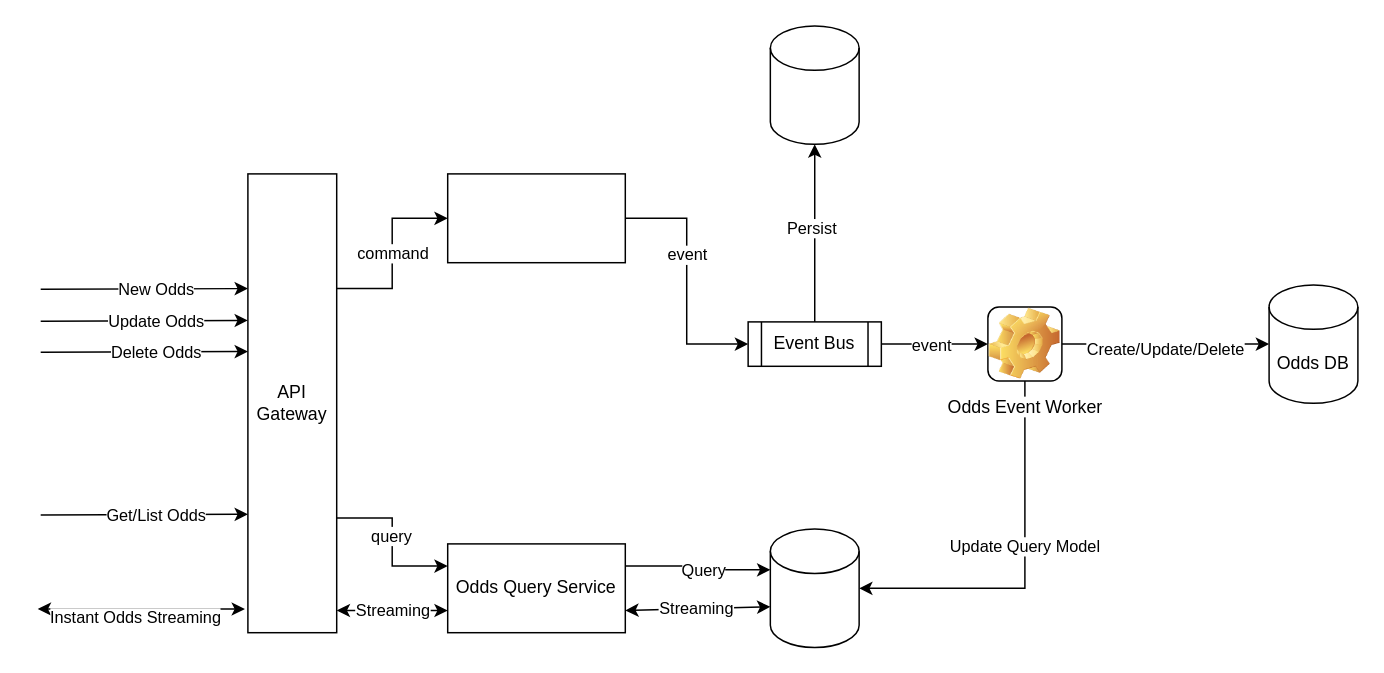
This 1384x673 diagram has some shape labels left out. Each missing label, with the centre of its shape:
"Event Store" goes at (814,84).
"Odds Command Service" goes at (535,217).
"Odds Query Cache" goes at (814,588).
